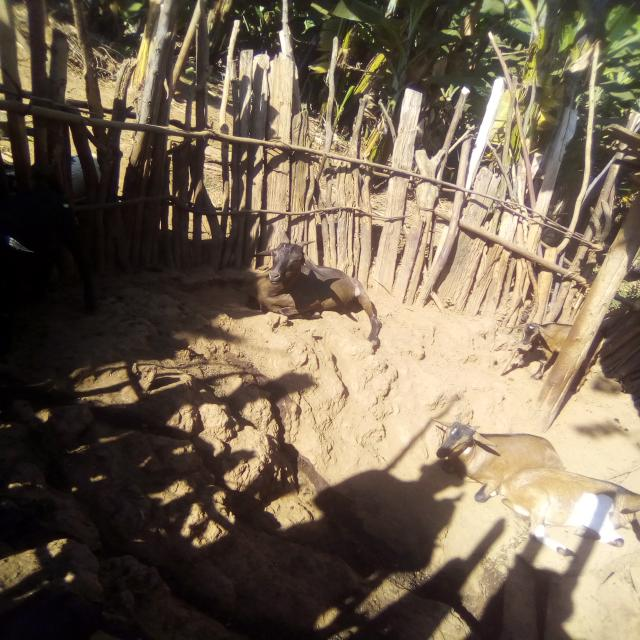goat: (229, 222, 403, 333)
